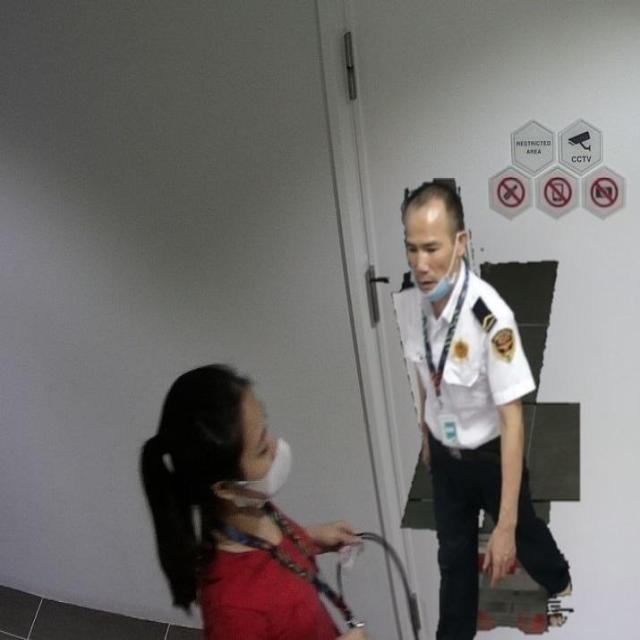hairnet: (403, 254, 462, 302)
mask: (227, 433, 300, 507)
